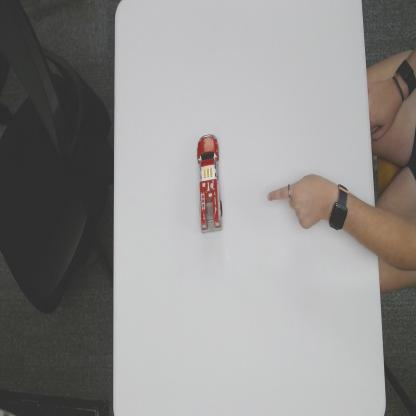Firetruck: (196, 131, 224, 236)
Hand: (267, 170, 328, 230)
